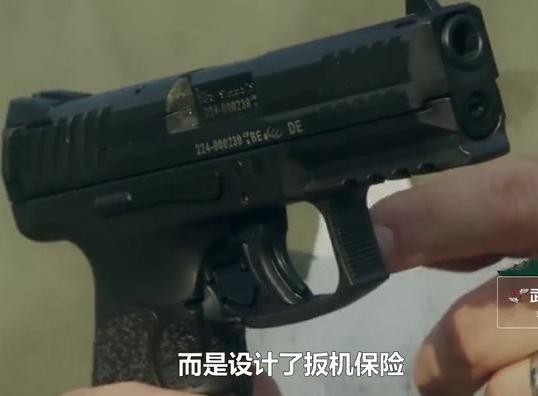gun: (1, 1, 538, 396)
